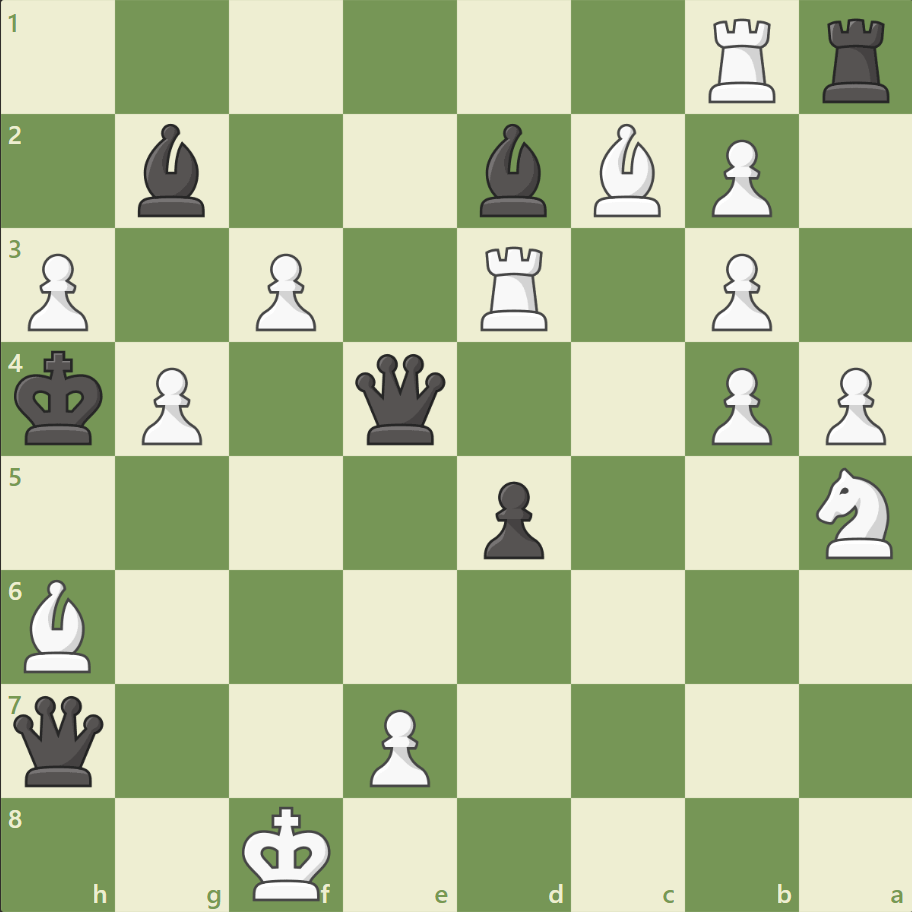B: (17, 574, 101, 676), (585, 120, 669, 222)
K: (238, 798, 338, 906)
N: (806, 461, 903, 564)
P: (701, 359, 776, 450), (133, 359, 208, 450), (701, 246, 776, 337), (247, 246, 322, 337), (20, 246, 95, 337), (701, 132, 776, 223), (361, 700, 435, 791), (815, 359, 889, 450)
R: (473, 239, 556, 336), (700, 12, 783, 109)
b: (471, 120, 555, 222), (131, 120, 215, 222)
k: (11, 344, 111, 452)
p: (474, 473, 549, 564)
q: (351, 349, 450, 449), (10, 690, 109, 789)
r: (814, 12, 897, 109)
